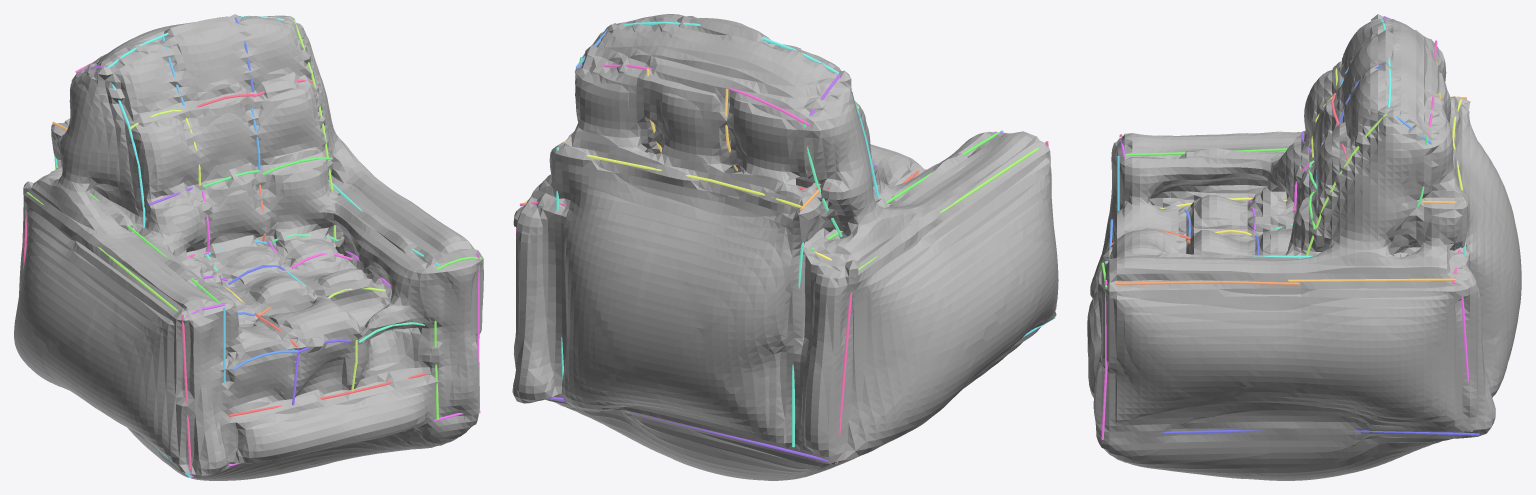
File: author2_sofa.gltf
3 views of the same model, side by side, from view 1: azimuth 30°, elevation 25°; view 2: azimuth 150°, elevation 25°; view 3: azimuth 270°, elevation 25° (orthographic). The views are drawn at different scales.
Bounding box in the file's own units: 0.673 × 0.726 × 0.6978.
